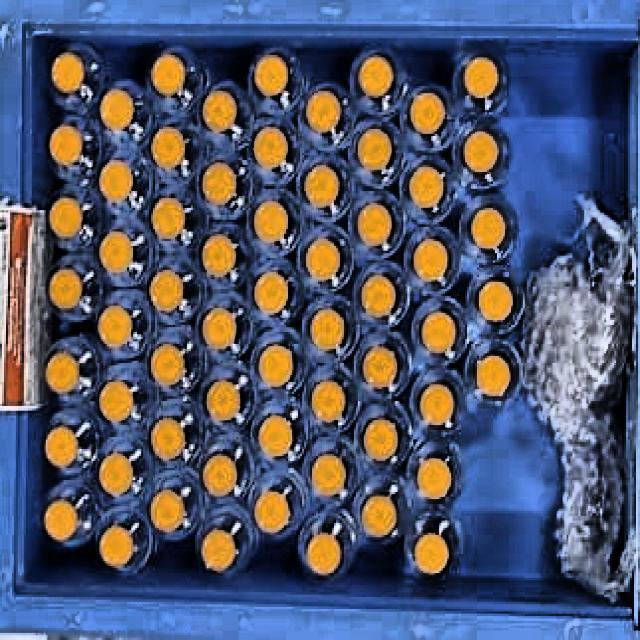vial: (471, 352, 516, 403), (468, 198, 508, 250), (477, 276, 515, 328), (95, 302, 135, 349), (358, 52, 396, 99), (200, 306, 238, 353), (460, 55, 501, 98), (360, 345, 399, 390), (253, 489, 291, 535), (249, 201, 289, 244), (149, 341, 184, 390), (253, 270, 291, 315), (305, 531, 343, 576), (362, 492, 399, 538), (413, 530, 450, 576), (309, 304, 345, 351), (202, 527, 238, 574), (98, 451, 134, 498), (46, 195, 84, 239), (409, 90, 446, 135), (357, 201, 394, 246), (252, 53, 289, 98), (43, 351, 80, 396), (201, 453, 238, 498), (305, 90, 343, 133), (98, 160, 135, 204), (200, 233, 237, 277), (408, 163, 444, 208), (99, 86, 135, 131), (311, 378, 347, 423), (148, 268, 183, 314), (362, 414, 397, 460), (46, 124, 84, 166), (303, 164, 340, 207), (202, 88, 239, 131), (252, 126, 290, 167), (97, 231, 135, 272), (257, 343, 294, 385), (150, 53, 186, 96), (420, 309, 456, 352), (151, 126, 186, 170), (412, 240, 449, 281), (462, 131, 498, 173), (98, 380, 134, 422), (357, 129, 392, 172), (49, 51, 84, 94), (48, 265, 83, 308), (418, 457, 453, 500), (419, 383, 454, 426), (151, 198, 185, 242), (306, 237, 342, 278), (98, 527, 134, 568), (201, 163, 236, 205), (205, 378, 240, 420), (360, 273, 395, 315), (258, 415, 293, 457), (150, 418, 185, 460), (43, 500, 78, 542), (43, 426, 79, 466), (151, 490, 185, 532), (313, 454, 346, 495)
